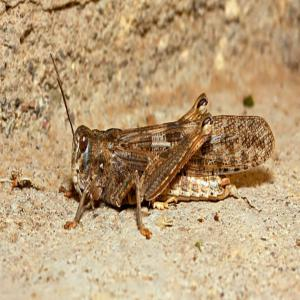locust: (58, 97, 279, 213)
